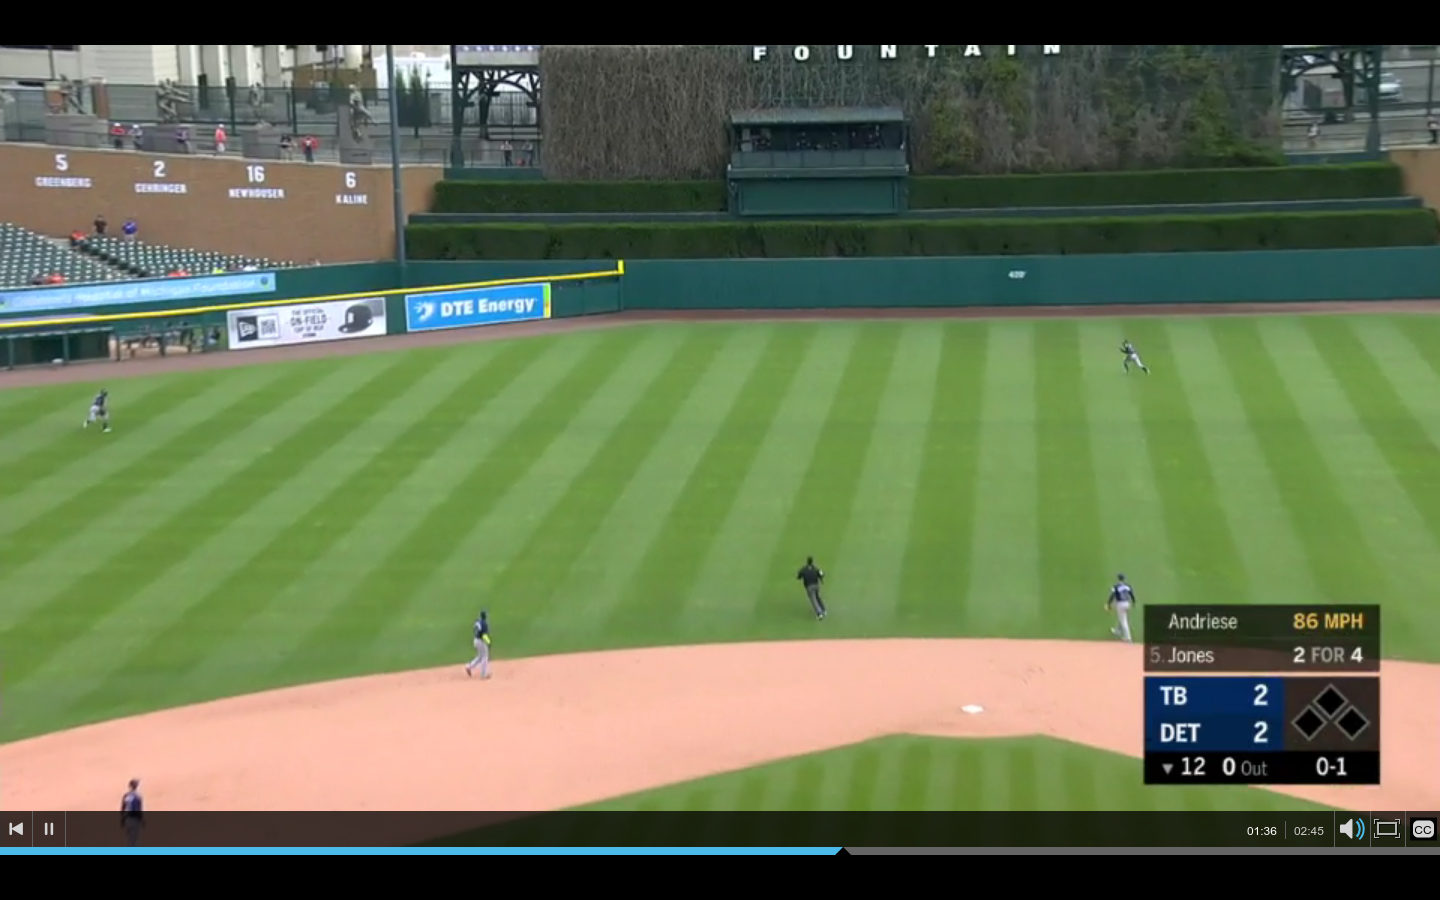baseball player: (1102, 571, 1145, 642), (115, 772, 155, 837), (464, 612, 501, 679), (79, 388, 118, 436), (1118, 336, 1155, 383)
referee: (790, 549, 836, 625)
